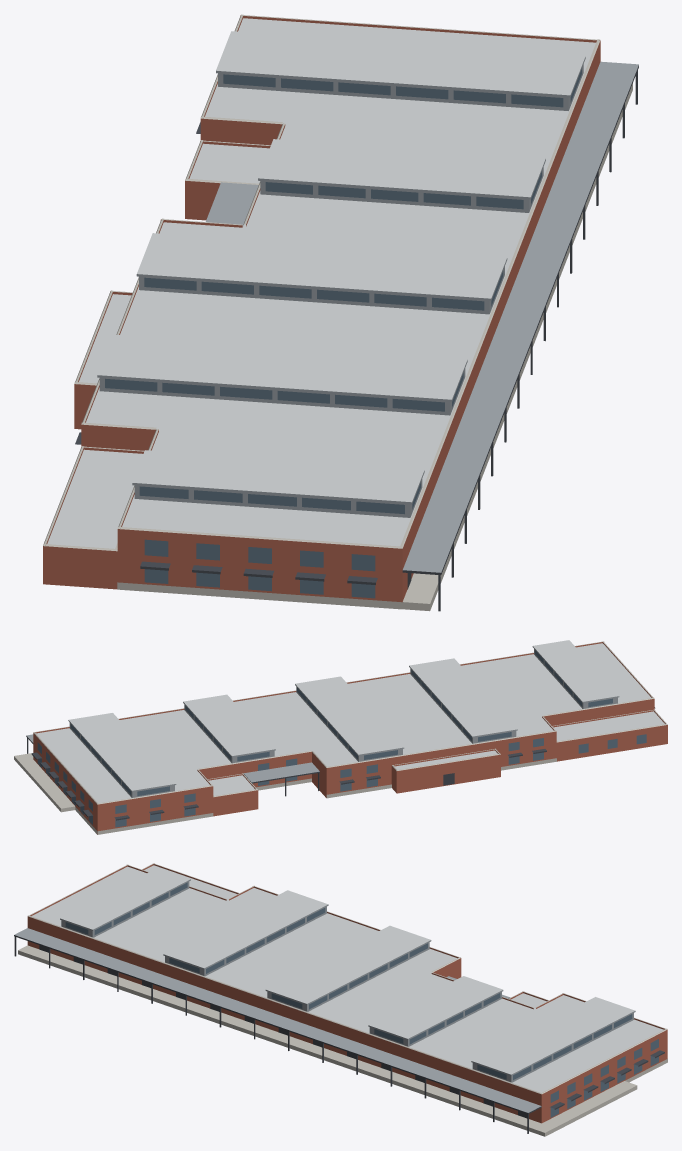
The model's file is detail.glb.
The picture shows the model from 3 angles, top to bottom: view 1: azimuth 30°, elevation 25°; view 2: azimuth 150°, elevation 25°; view 3: azimuth 270°, elevation 25°; orthographic projection. The views are drawn at different scales.
Parts seen in each view (by area): view 1: 201-camp-road; view 2: 201-camp-road; view 3: 201-camp-road.
Boxes of the visible parts, x1,y1,x2,y2 form: 201-camp-road: [43, 14, 638, 611]; 201-camp-road: [14, 640, 667, 834]; 201-camp-road: [14, 863, 667, 1136].
Size of the model in its own units: 165 by 12.6 by 181.
